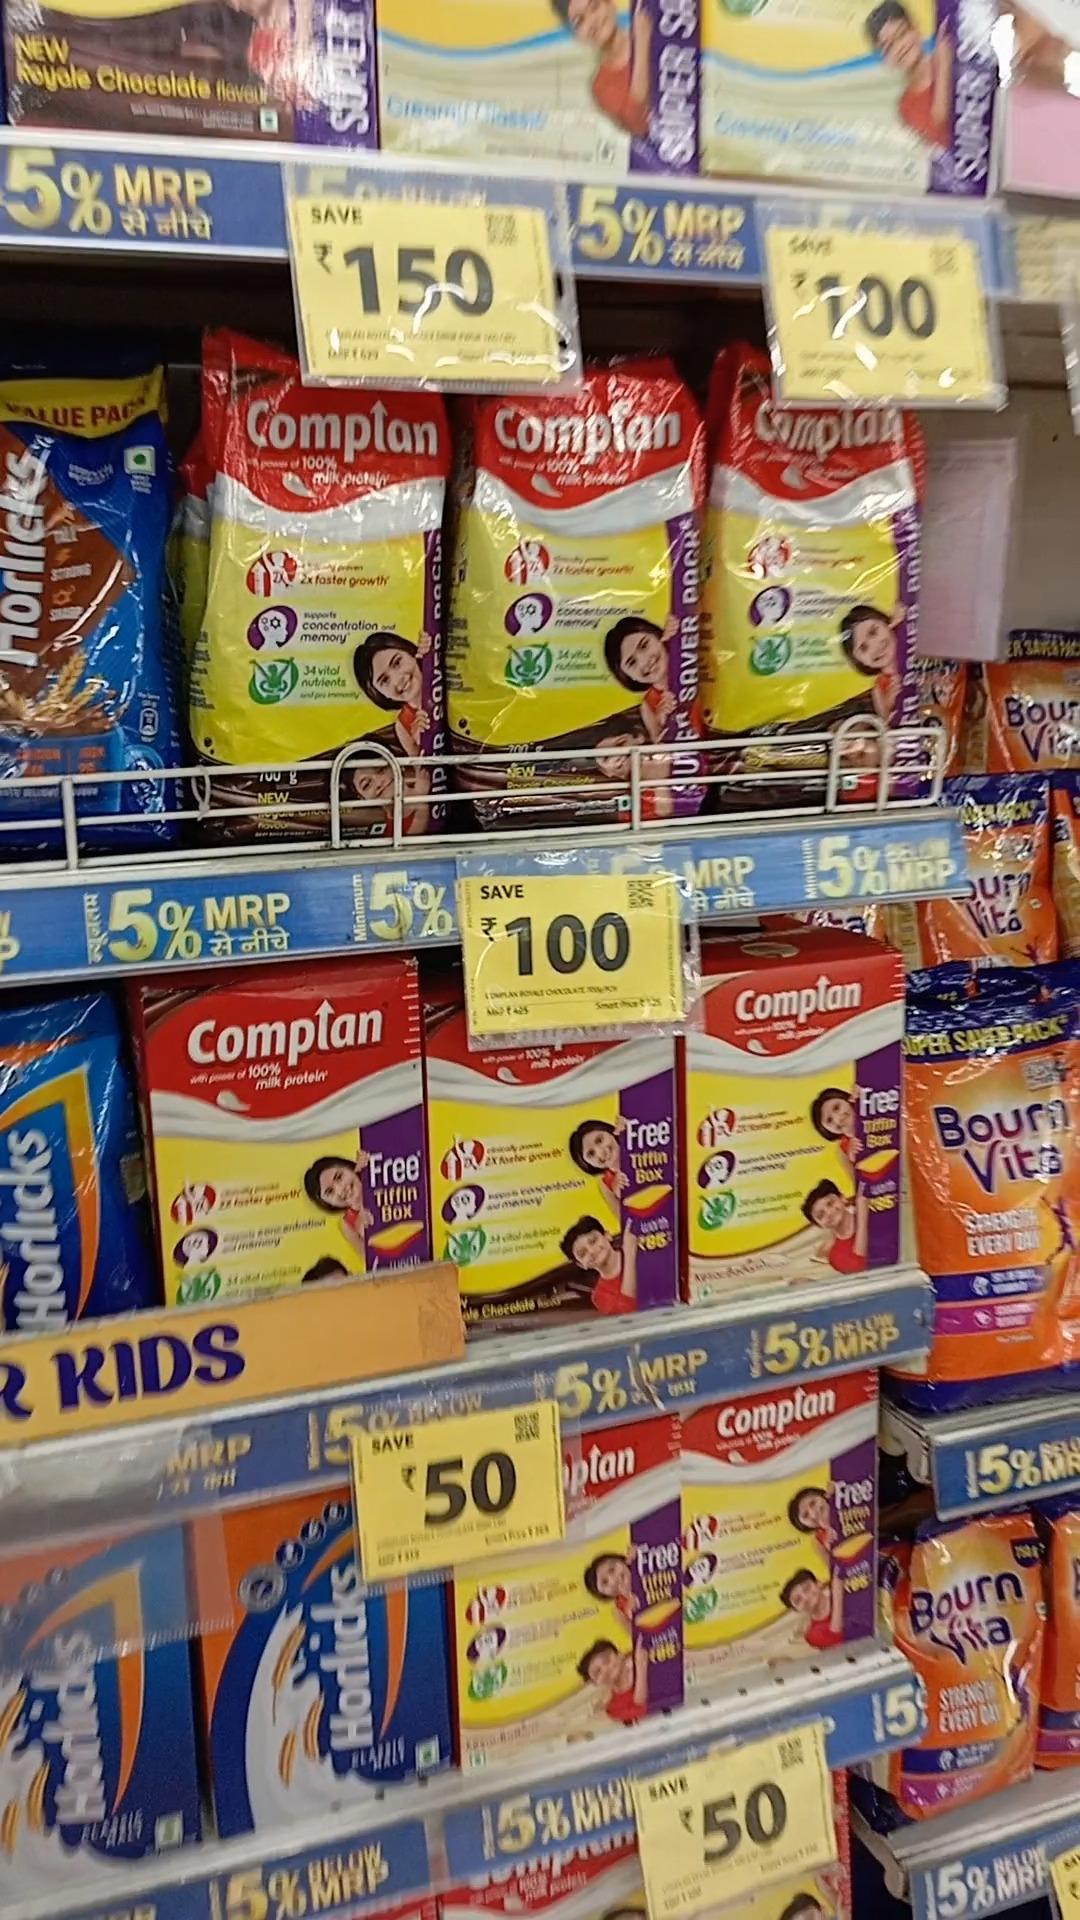BOURN_VITA_1_KG_POUCH: (906, 1007, 1075, 1422), (930, 774, 1059, 960)
BOURN_VITA_750_G_POUCH: (898, 1513, 1058, 1811)
COMPLAN_CHOCOLATE_500_GMS_PACK: (136, 981, 422, 1271), (446, 968, 674, 1325)
COMPLAN_KESAR_BADAM_500_GMS_PACK: (467, 1429, 679, 1751), (700, 965, 897, 1307), (687, 1393, 880, 1680)
COMPLAN_RC_POUCH_700_GMS_12: (204, 334, 442, 844), (483, 369, 699, 825), (724, 351, 918, 806)
HORLICK_CHOCOLATE_750_G_POUCH: (0, 376, 191, 851)
HORLICK_CLASSIC_MALT_500_G_PACK: (195, 1493, 439, 1825), (0, 1523, 193, 1888)
HORLICK_CLASSIC_MALT_750_G_POUCH: (0, 996, 136, 1340)
